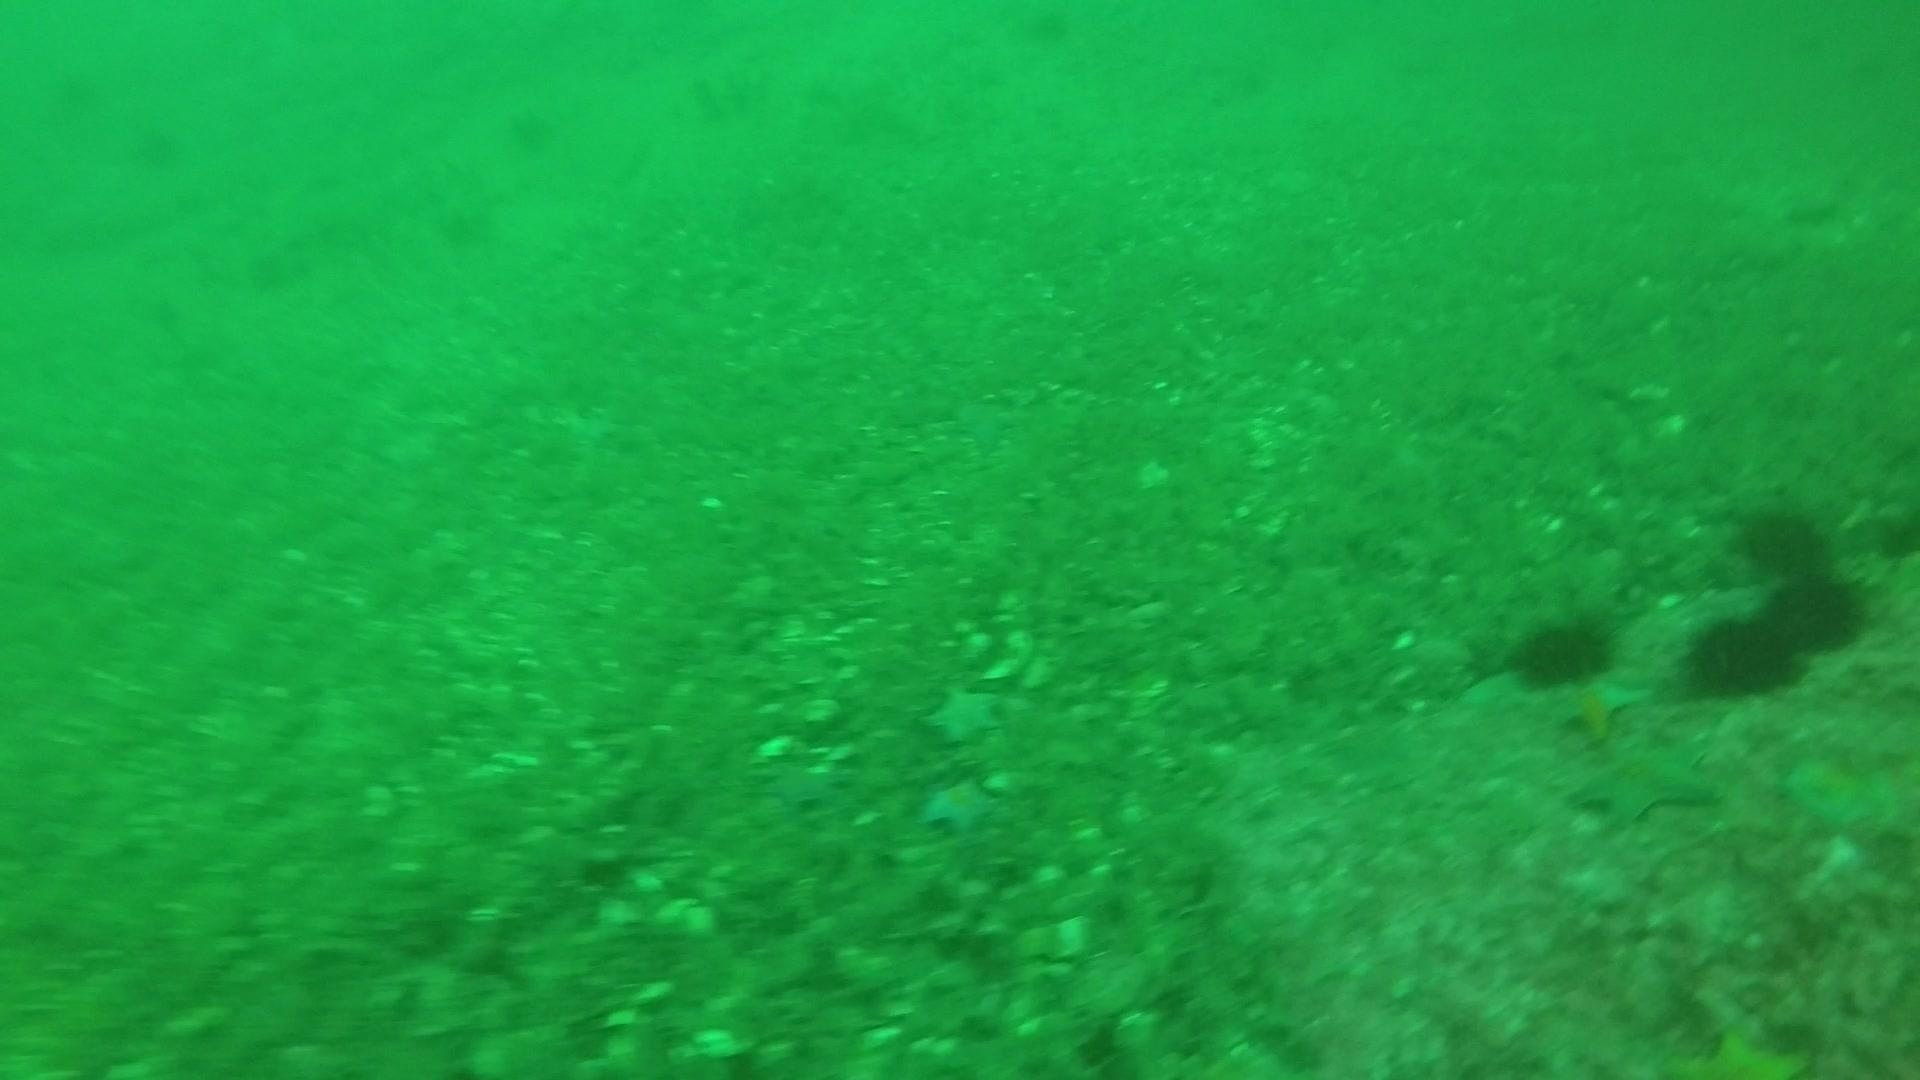echinus: (1679, 607, 1807, 703), (1756, 566, 1871, 657), (1505, 607, 1619, 694), (1730, 497, 1836, 583), (501, 100, 562, 158)
starfish: (1563, 735, 1724, 832), (1553, 663, 1654, 746), (914, 769, 1007, 839), (919, 678, 1009, 750), (748, 754, 851, 812), (945, 393, 1019, 455)
